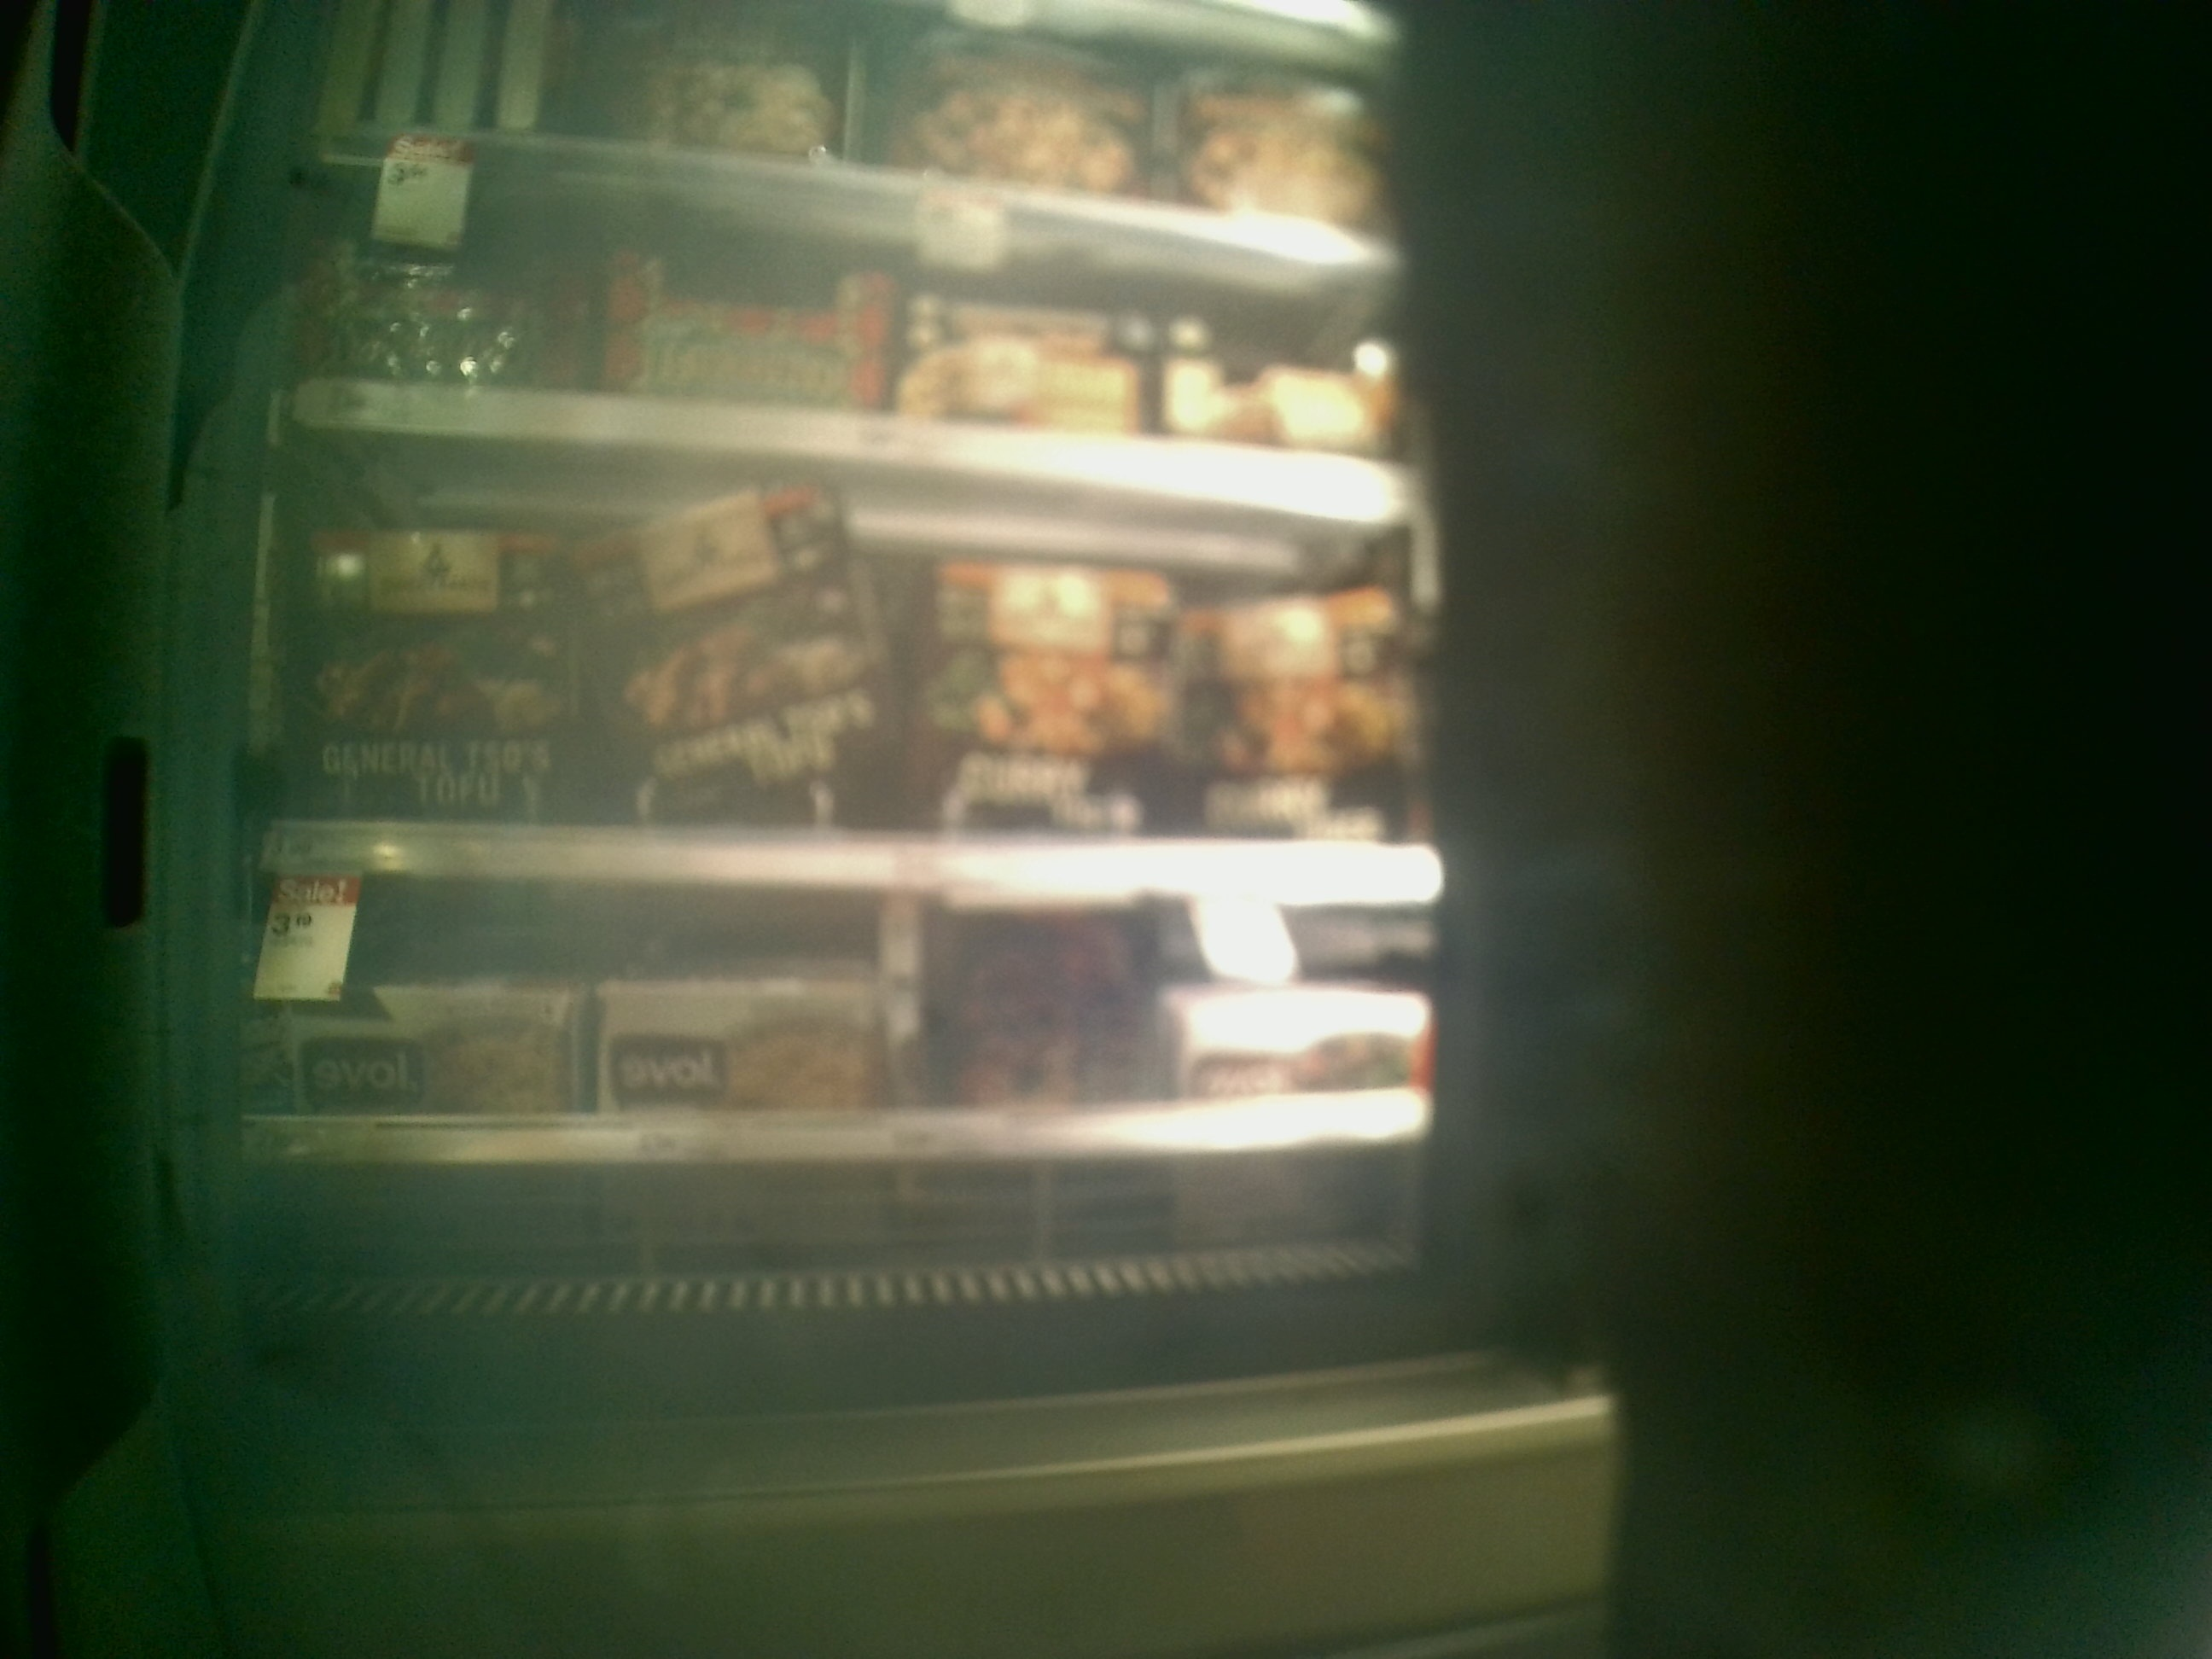frozen-food-shelf: (261, 526, 1453, 899), (279, 166, 1423, 523), (233, 899, 1463, 1173)
